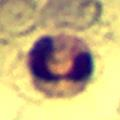eosi: (27, 33, 94, 99)
